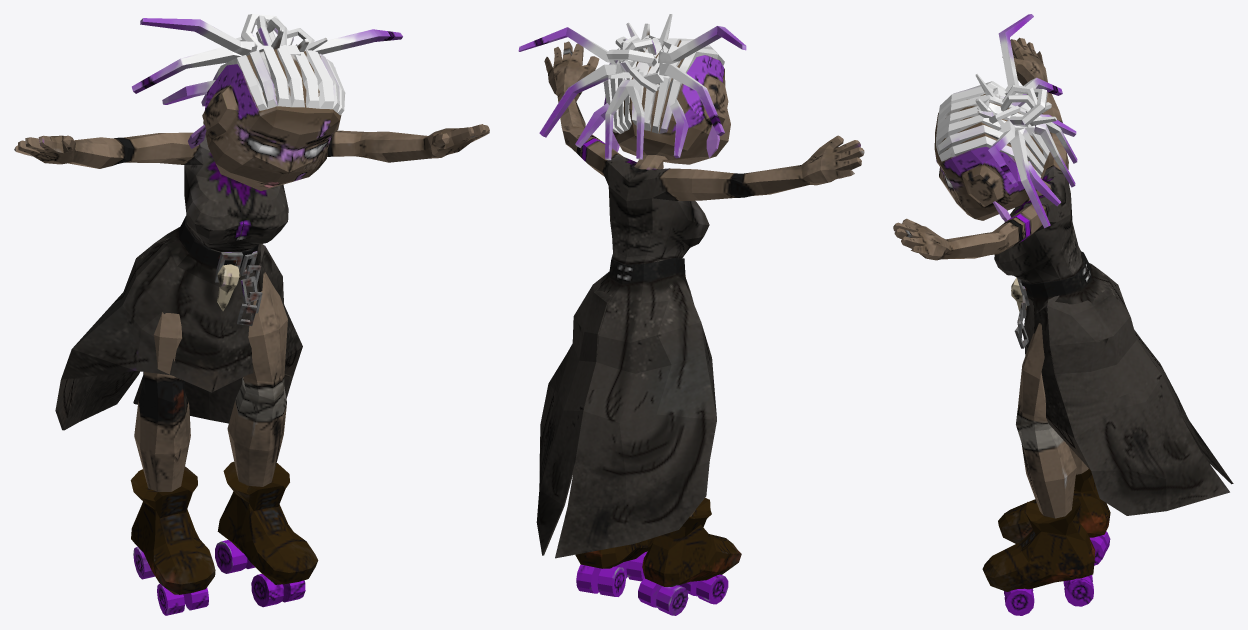
The model's file is bruja_000158.obj.
3 renders of one model, left to right at view 1: azimuth 30°, elevation 25°; view 2: azimuth 150°, elevation 25°; view 3: azimuth 270°, elevation 25°, orthographic. The views are drawn at different scales.
Parts seen in each view (by area): view 1: Bruja_Plane.001; view 2: Bruja_Plane.001; view 3: Bruja_Plane.001.
Boxes of the visible parts, left/top/right/bottom form: Bruja_Plane.001: left=14, top=14, right=489, bottom=615; Bruja_Plane.001: left=518, top=14, right=864, bottom=615; Bruja_Plane.001: left=893, top=14, right=1233, bottom=615.
Bounding box in the file's own units: 11.59 × 16.67 × 9.54.
